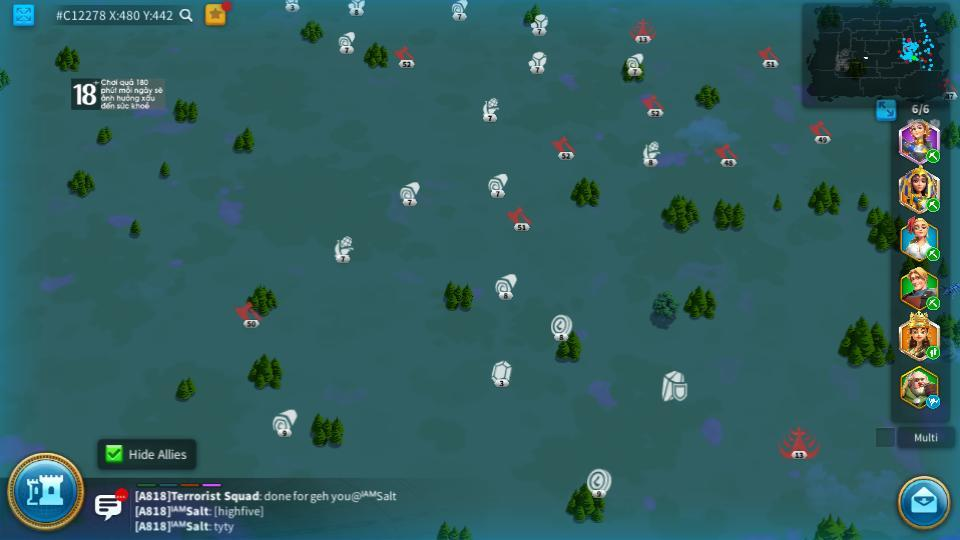gem-z-out: (491, 359, 513, 384)
march_farming: (925, 197, 941, 212), (925, 297, 941, 308)
march_idle: (925, 396, 942, 408)
march_marching: (925, 150, 942, 162), (925, 347, 941, 359)
